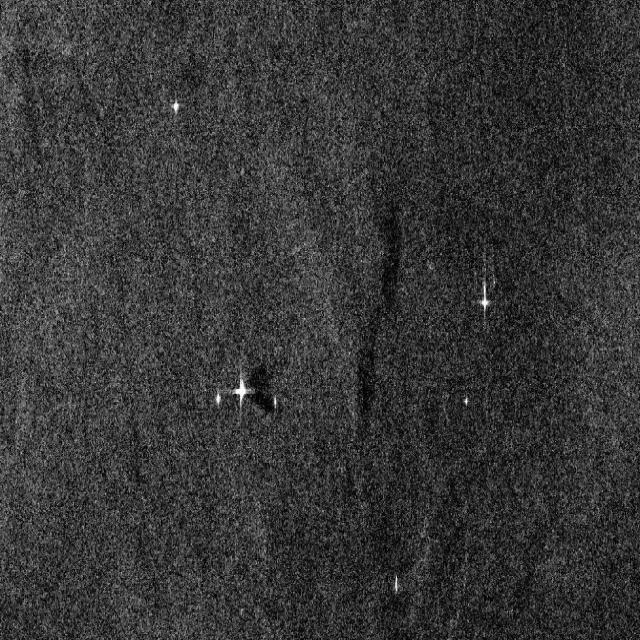look-alike: (344, 192, 407, 432)
oil-spill: (246, 359, 279, 418)
ship: (229, 370, 253, 416), (476, 276, 493, 321)
